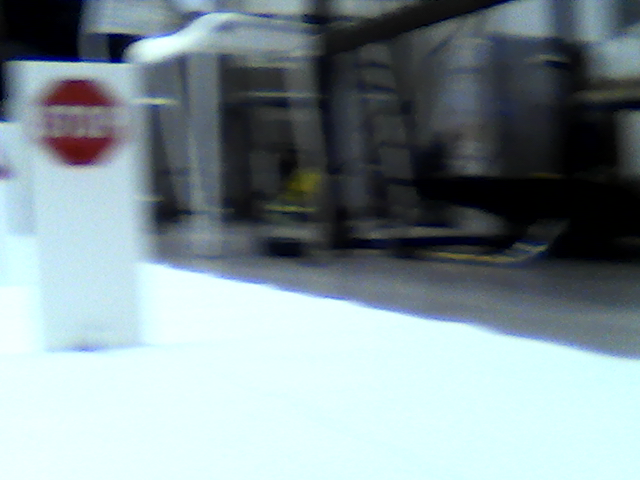Stop: (39, 79, 117, 163)
